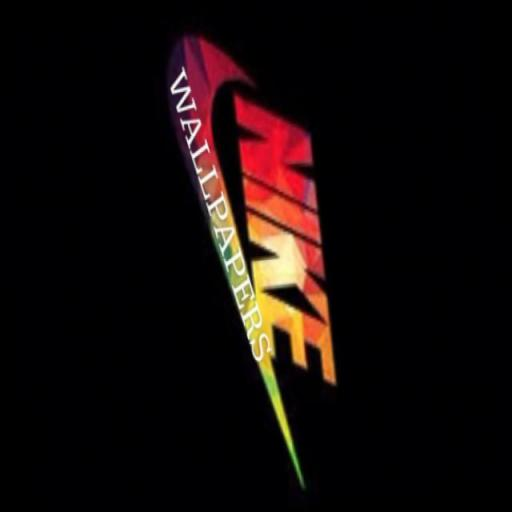Nike: (156, 26, 305, 505), (226, 84, 340, 406)
